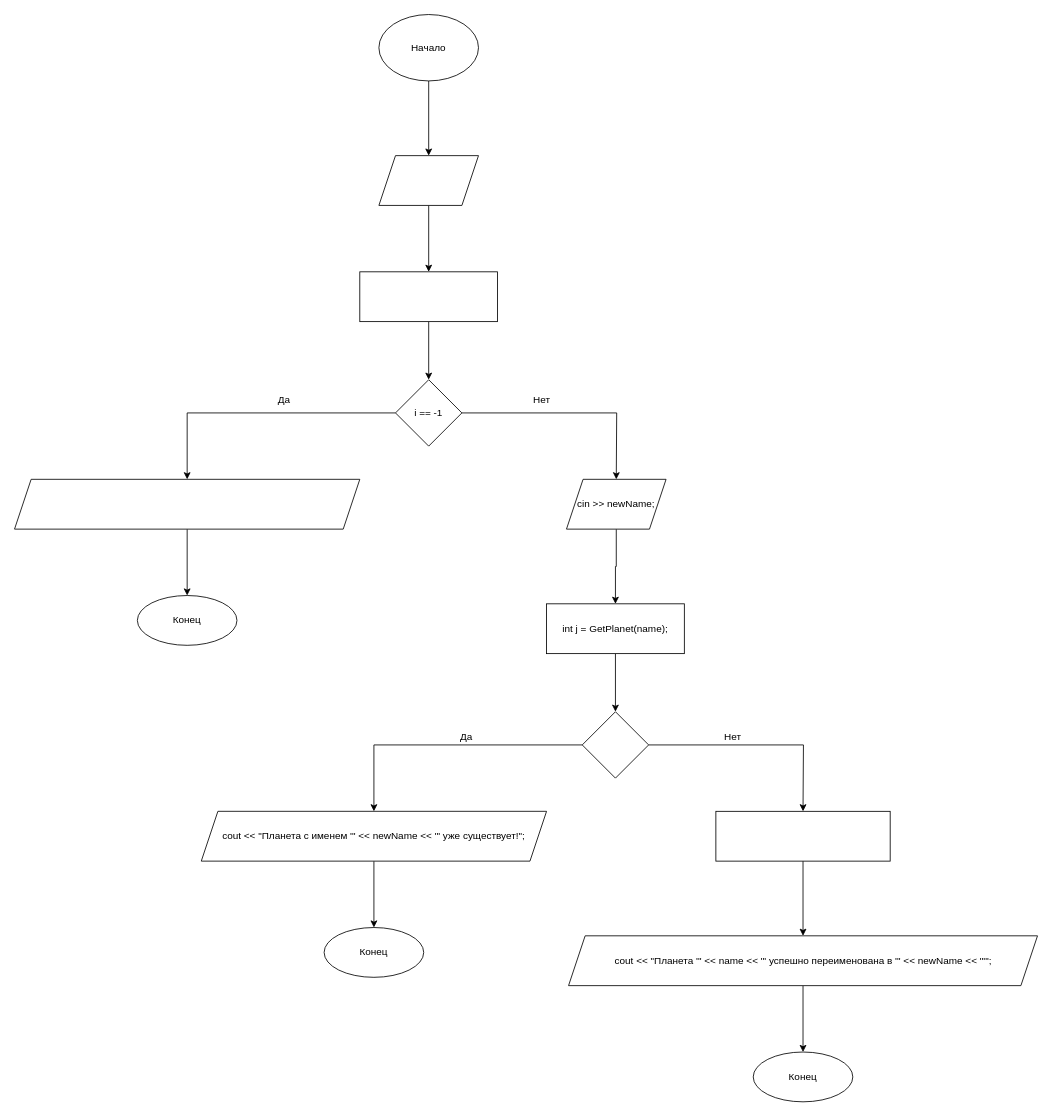
This 1052x1116 diagram has some shape labels left out. Each missing label, with the box of its shape:
cin >> name;: (378, 155, 478, 205)
cout << "Планеты с названием '" << name << "' не существует!";: (14, 478, 360, 529)
int i = GetPlanet(name);: (359, 271, 498, 322)
j != -1: (581, 711, 649, 778)
planets[i].SetName(newName);: (715, 810, 890, 861)
